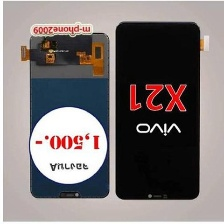phone: (112, 17, 202, 204), (27, 28, 111, 202)
